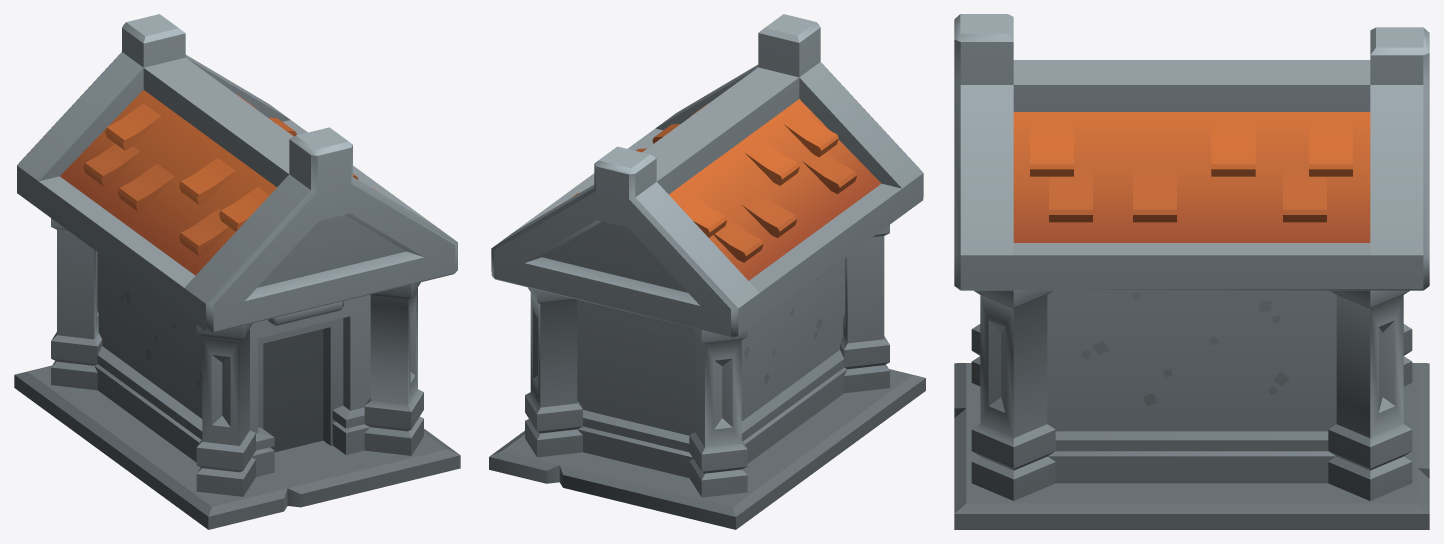
The model's file is crypt.glb.
3 renders of one model, left to right at view 1: azimuth 30°, elevation 25°; view 2: azimuth 150°, elevation 25°; view 3: azimuth 270°, elevation 25°, orthographic. The views are drawn at different scales.
Visible parts, largest first — view 1: crypt; view 2: crypt; view 3: crypt.
Boxes of the visible parts, x1,y1,x2,y2 form: crypt: [14, 14, 460, 529]; crypt: [489, 14, 925, 529]; crypt: [954, 14, 1429, 529].
Size of the model in its own units: 6 by 8 by 8.
1 material, 1 textured.
